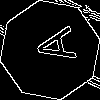A: (25, 25, 77, 68)
